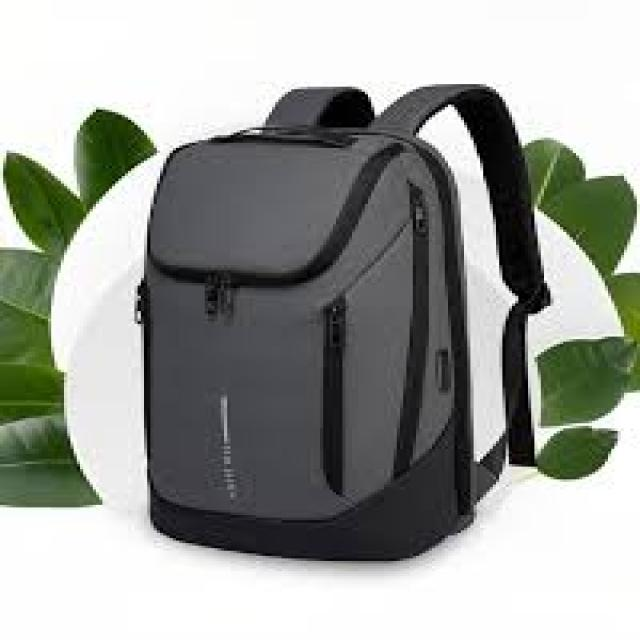backpack: (133, 83, 552, 562)
